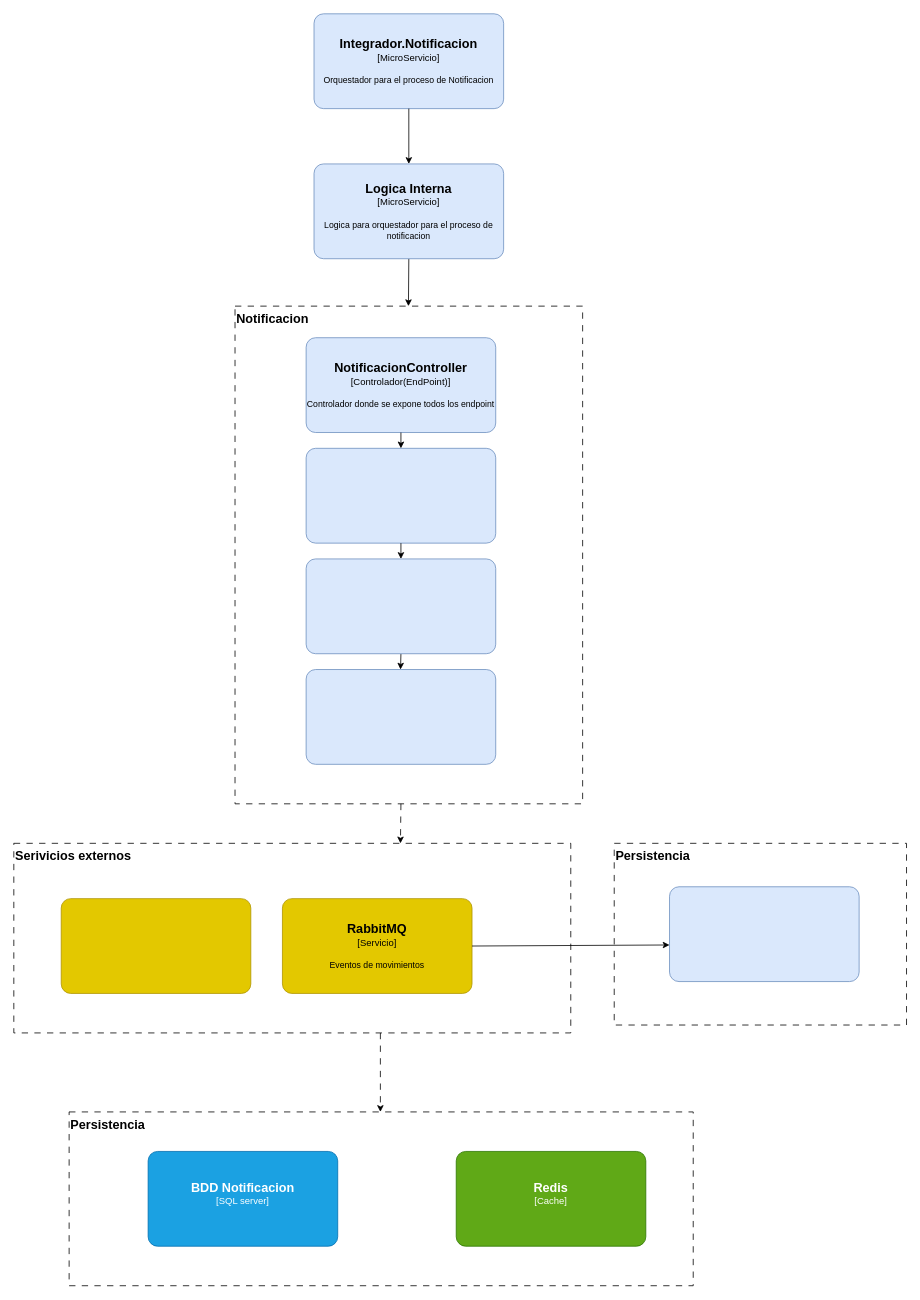
Image size: 920x1300. Some labels were removed from this diagram. Each missing label, with the centre of its shape:
Core.log [Eventos para guarda log/auditoria]: the point at 764,934
EnvioNotificacion [Servicio] Procesos de envio de notificacion: the point at 400,495
EnvioPush [Servicio] Procesos de envio de notificacion: the point at 400,716
EnvioSMS [Servicio] Procesos de envio de notificacion: the point at 400,606
Prometheus/Grafana [Monitoreo] Registra logs de monitoreo: the point at 155,945
